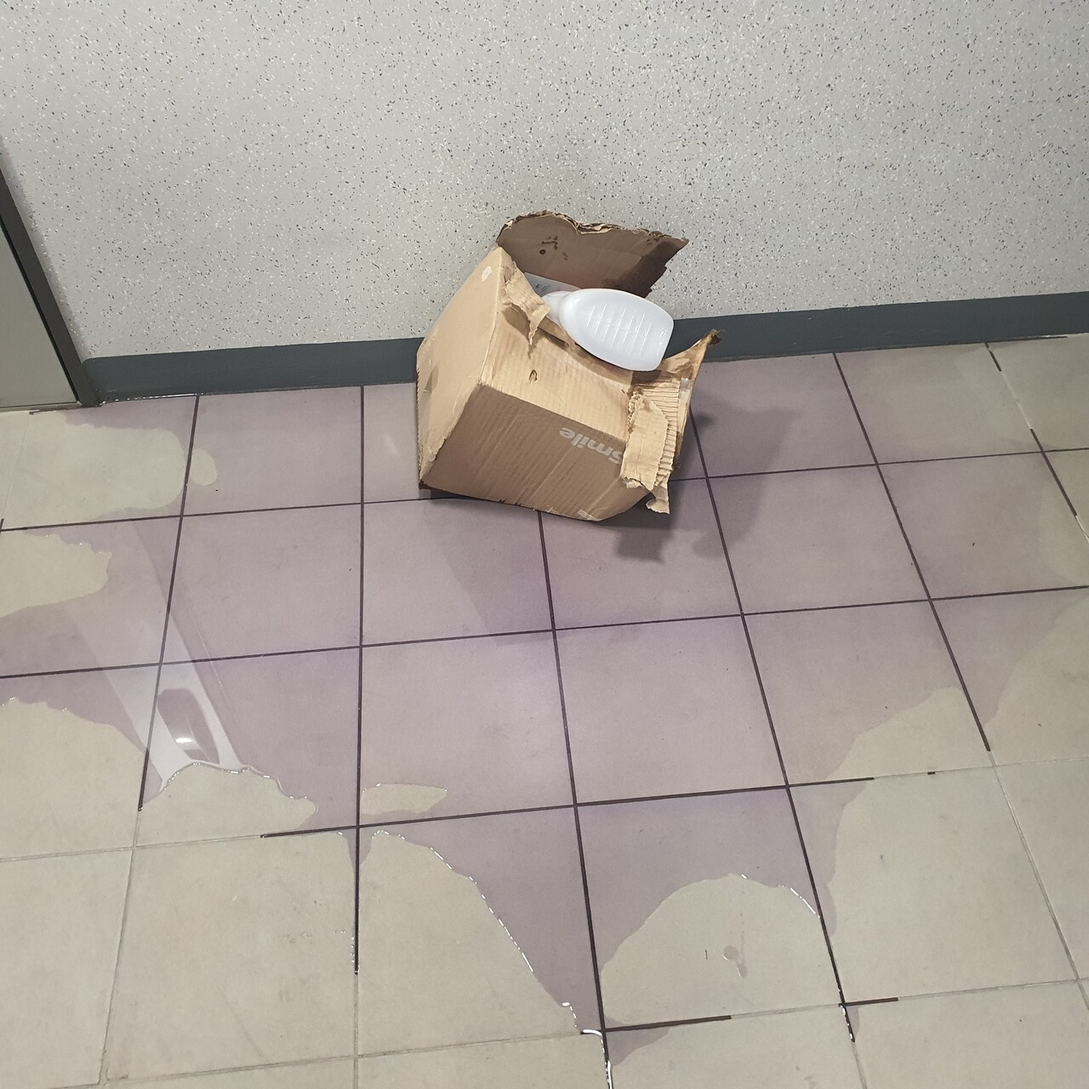damaged package: (505, 222, 732, 526)
